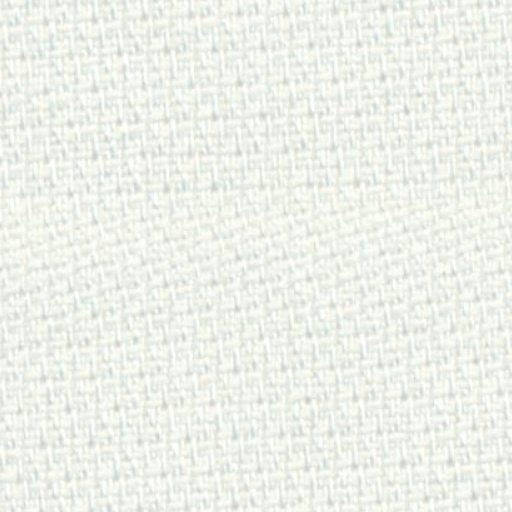TuoSha: (22, 163, 484, 387)
